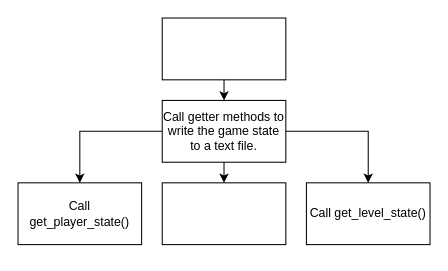
This 448x271 diagram has some shape labels left out. Here are the shapes that lost their labels. From the top down, the centre of each, then its label:
At pixel 223 48: "Save game".
At pixel 223 213: "For each enemy, call get_enemy_state()".
